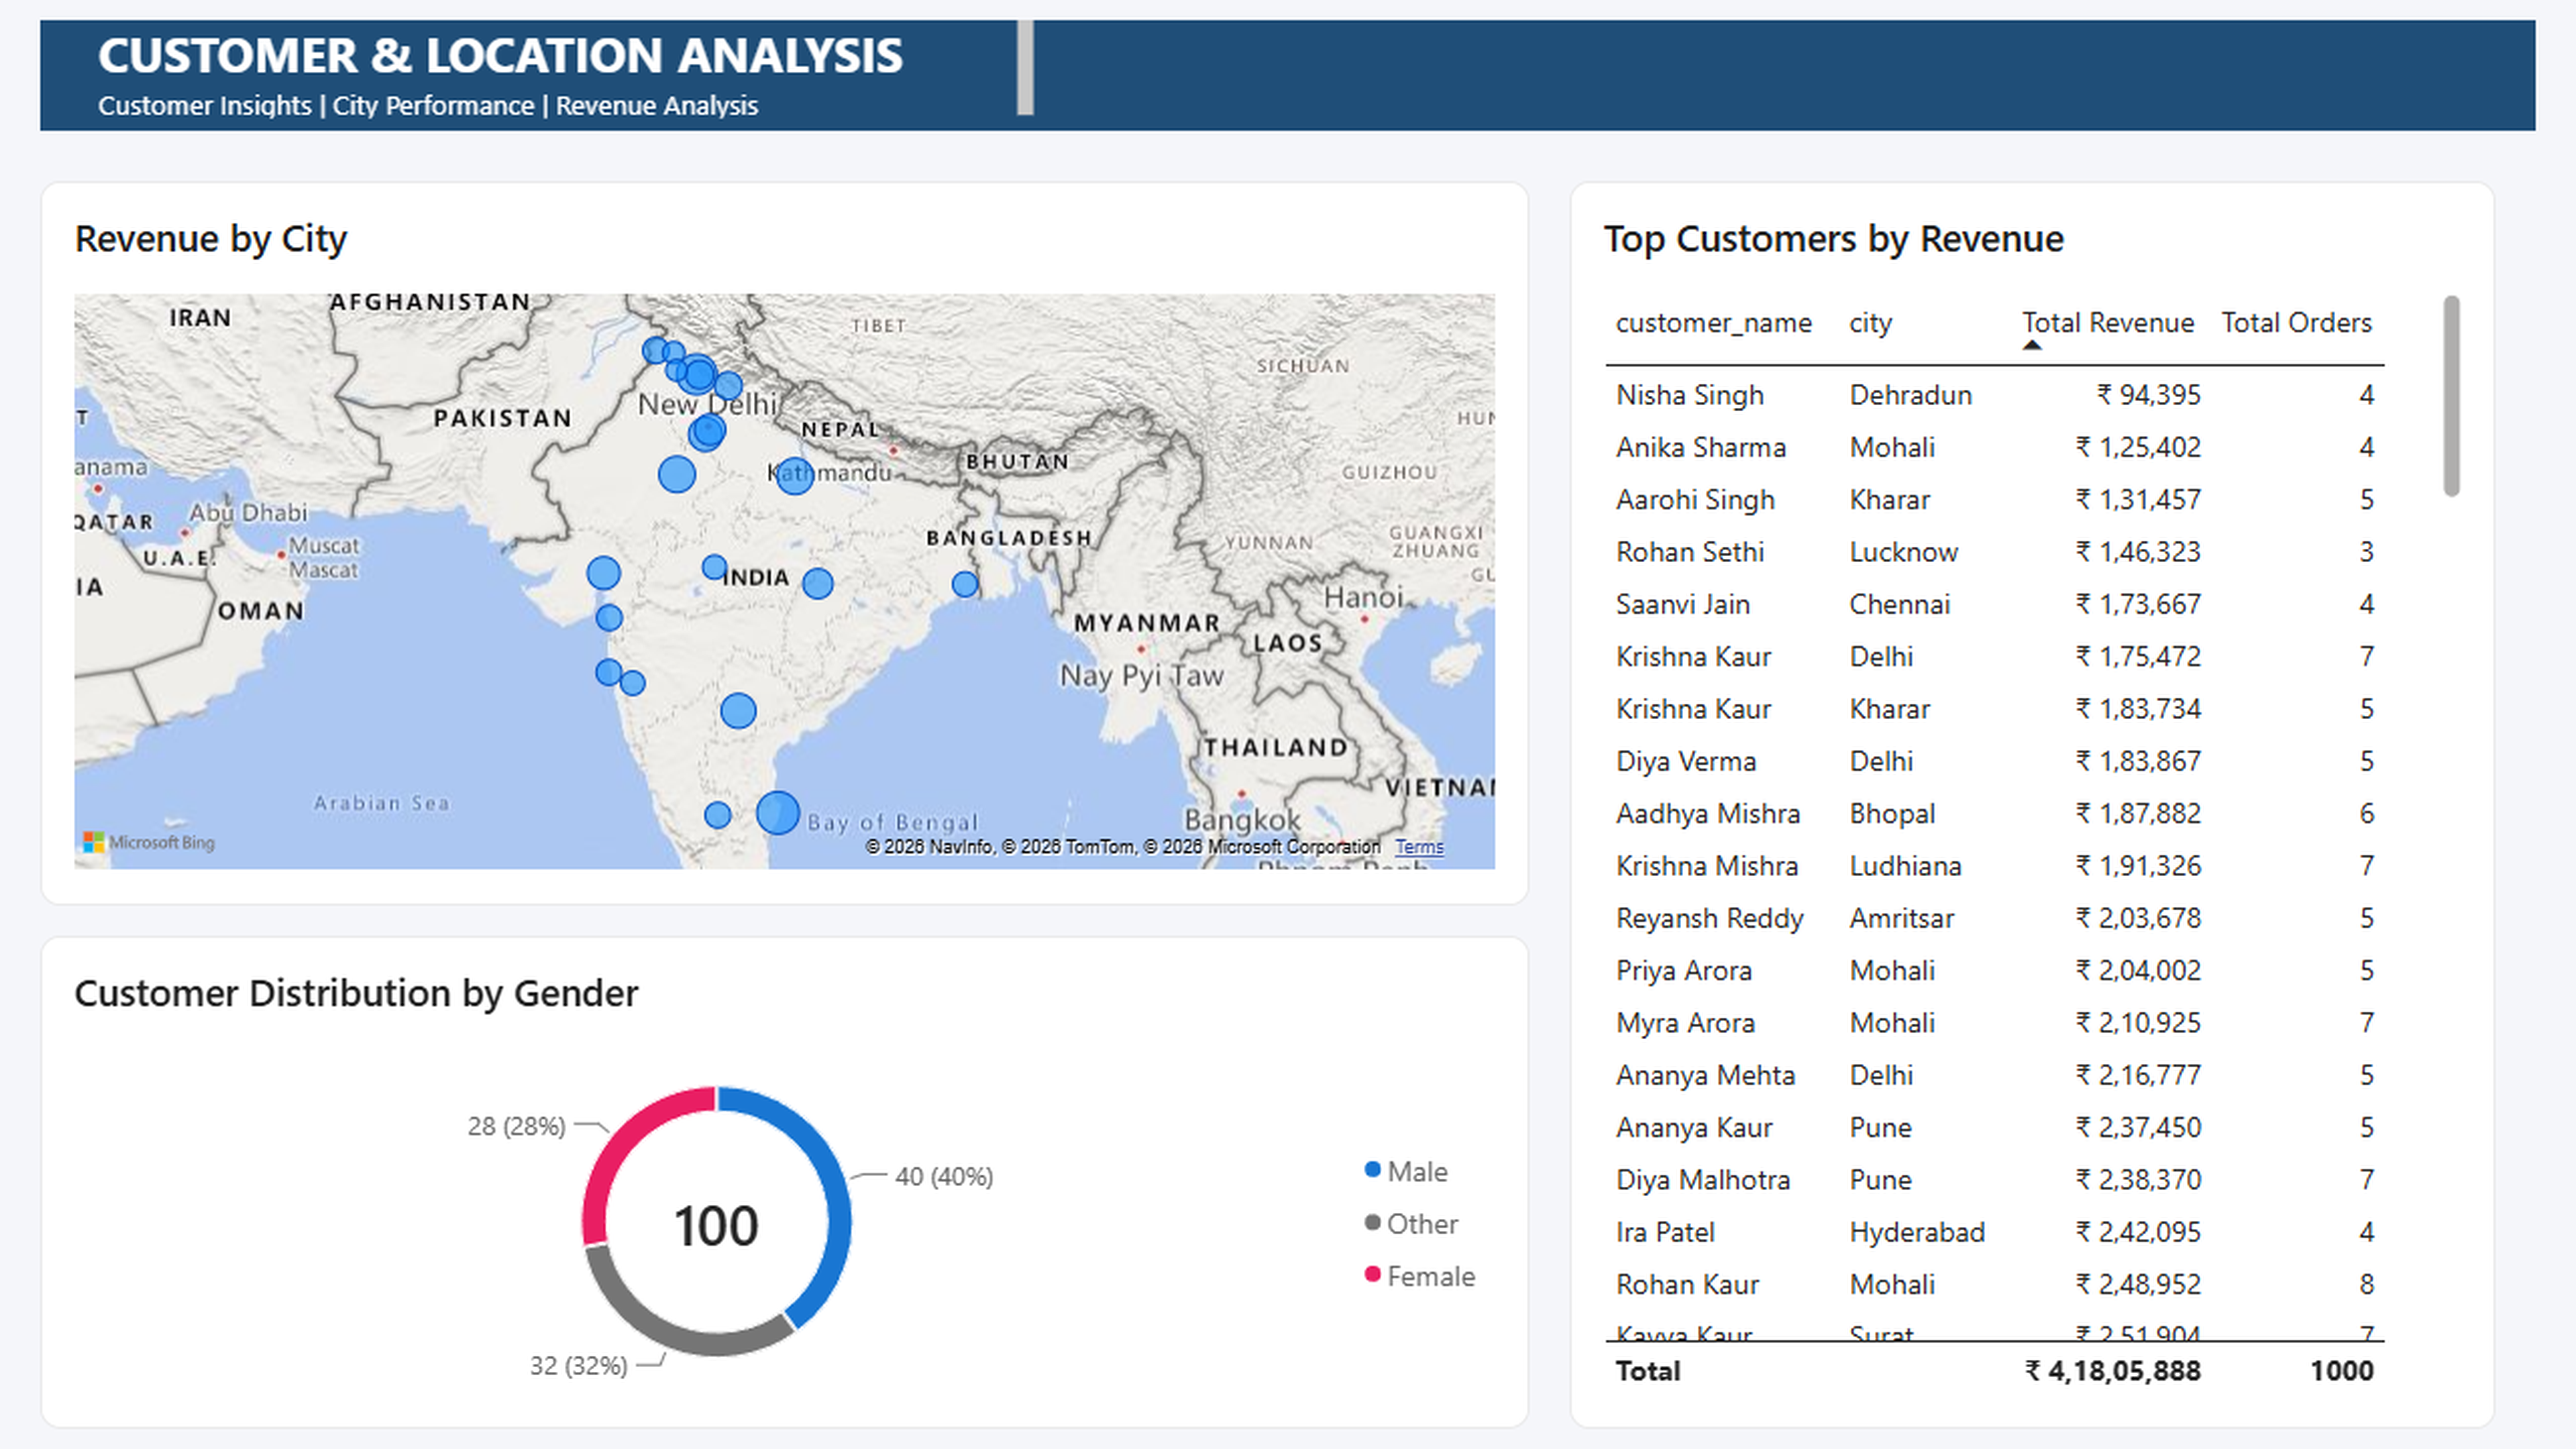

This screenshot's page, from the dashboard's own definition file:
{"tool":"powerbi","page":{"name":"Customer & Location Analysis","canvas":[1280,720],"ordinal":2},"visuals":[{"type":"map","title":"Revenue by City","fields":{"Category":["retail_analytics customers.city"],"Size":["retail_analytics customers.Total Revenue"]},"box":[20,90,740,360],"z":0},{"type":"tableEx","title":"Top Customers by Revenue","fields":{"Values":["retail_analytics customers.customer_name","retail_analytics customers.city","retail_analytics customers.Total Revenue","retail_analytics customers.Total Orders"]},"box":[780,90,460,620],"z":1000},{"type":"donutChart","title":"Customer Distribution by Gender","fields":{"Category":["retail_analytics customers.gender"],"Y":["retail_analytics customers.Total Customers"]},"box":[20,465,740,245],"z":2000},{"type":"shape","box":[20,10,1240,55],"z":3000},{"type":"textbox","box":[49,10.6,465,49],"z":5000}]}

Visuals, with their boxes in screenshot pixels (x1, y1, x2, y2), scaled from the page's 1280x720 canvas onto the 2576x1449 screenshot:
"Revenue by City" map: BBox(40, 181, 1529, 906)
"Top Customers by Revenue" tableEx: BBox(1570, 181, 2495, 1429)
"Customer Distribution by Gender" donutChart: BBox(40, 936, 1529, 1429)
shape: BBox(40, 20, 2536, 131)
textbox: BBox(99, 21, 1034, 120)
